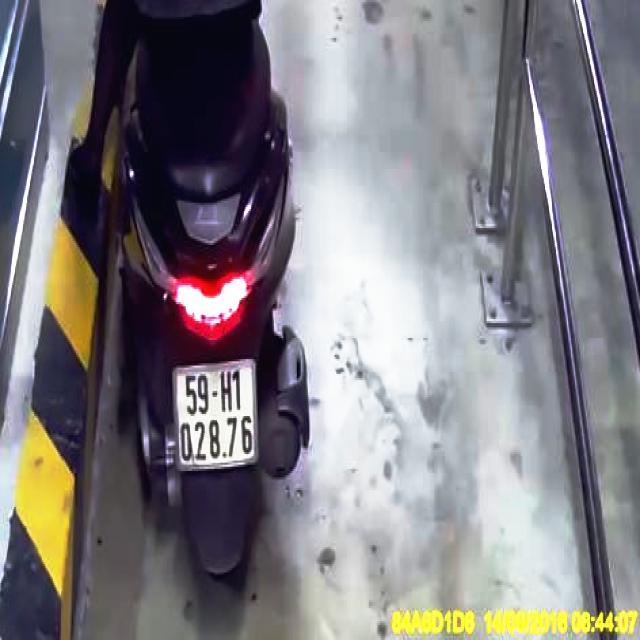license_plate: (176, 364, 257, 469)
